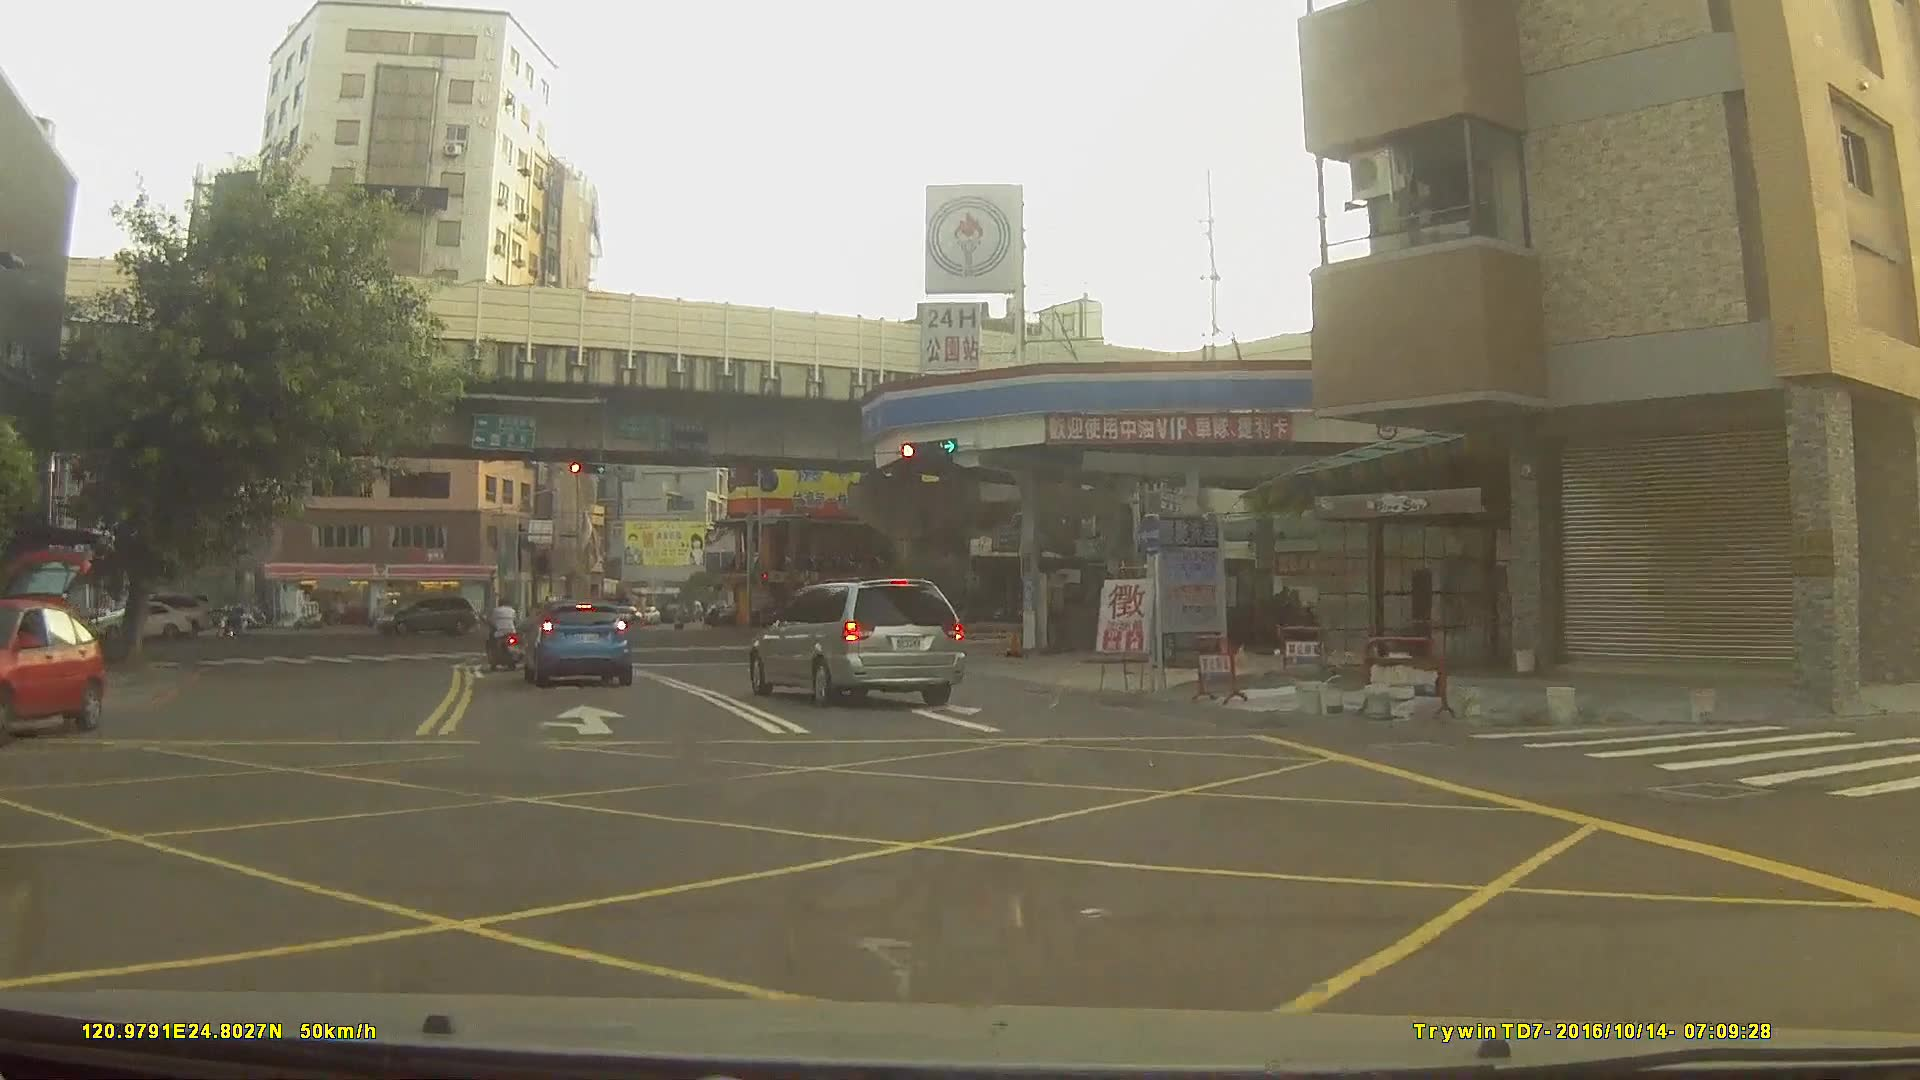rider: (485, 599, 522, 673), (218, 619, 246, 651)
vehicle: (749, 576, 966, 708), (0, 597, 103, 740), (526, 600, 633, 687), (89, 599, 193, 644), (371, 596, 476, 636), (530, 604, 609, 643)
